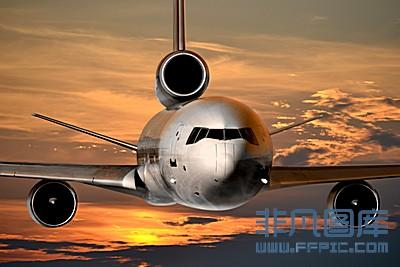airplane: (1, 2, 400, 227)
